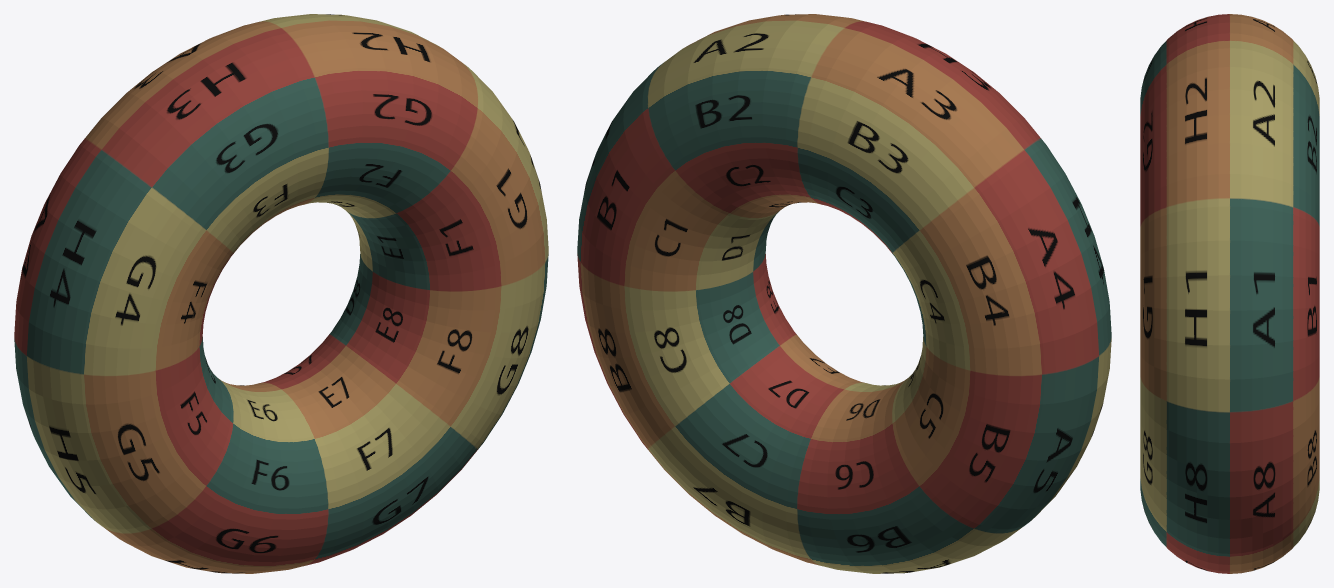
File: texture_torus_R10_r22.glb
3 renders of one model, left to right at view 1: azimuth 30°, elevation 25°; view 2: azimuth 150°, elevation 25°; view 3: azimuth 270°, elevation 25°, orthographic. The views are drawn at different scales.
Visible parts, largest first — view 1: world; view 2: world; view 3: world.
Boxes of the visible parts, bbox=[...] form: world: bbox=[14, 14, 548, 573]; world: bbox=[577, 14, 1111, 573]; world: bbox=[1140, 14, 1319, 573].
Bounding box in the file's own units: 24.53 × 24.48 × 7.85.
1 material, 1 textured.
